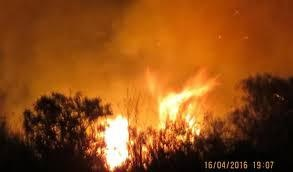fire: (97, 74, 209, 168), (92, 112, 136, 168)
